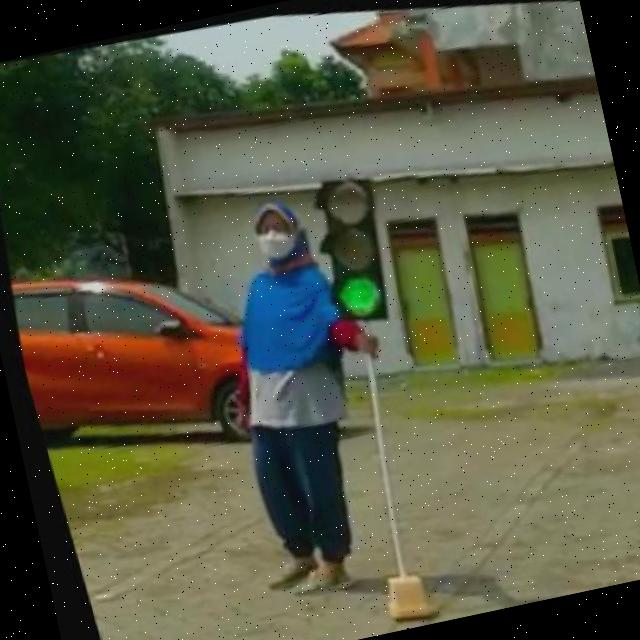green_light: (287, 157, 408, 334)
